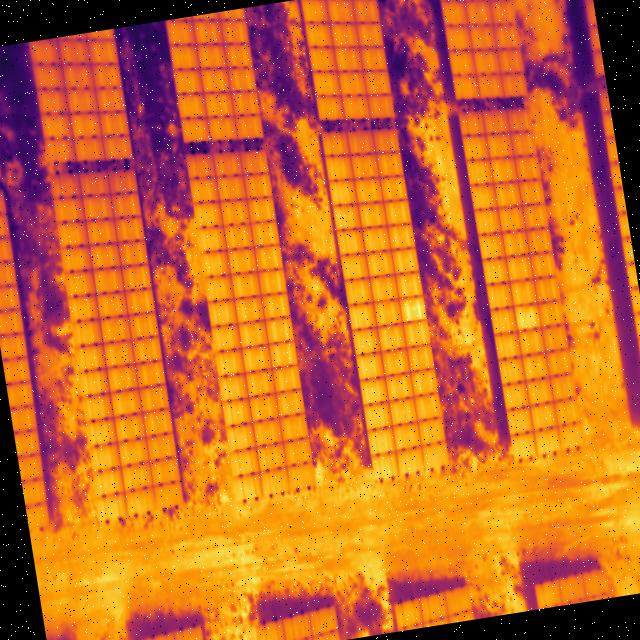Hotspot: (515, 304, 543, 330), (401, 295, 427, 321), (98, 494, 124, 517), (236, 477, 257, 499), (372, 456, 393, 473)
